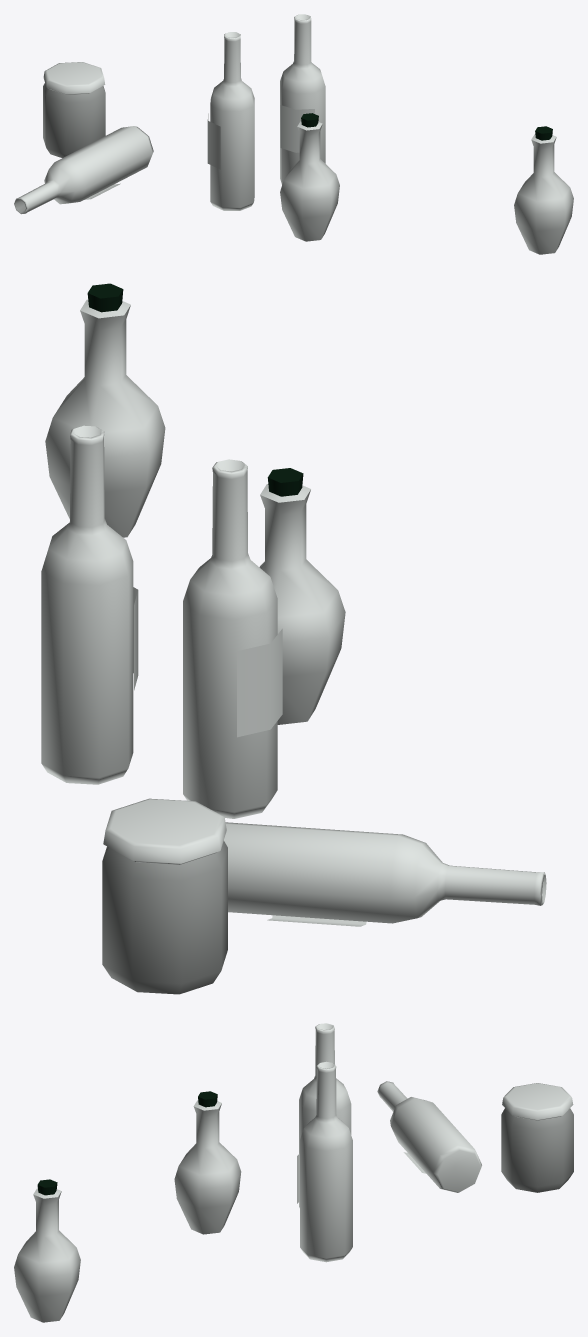
3 views of the same model, one above another, from view 1: azimuth 30°, elevation 25°; view 2: azimuth 150°, elevation 25°; view 3: azimuth 270°, elevation 25° (orthographic). The views are drawn at different scales.
Parts seen in each view (by area): view 1: G:\FFXIV-MapTools\exports\f1f3\bg\ffxiv\fst_f1\fld\f1f3\bgpa (×5); view 2: G:\FFXIV-MapTools\exports\f1f3\bg\ffxiv\fst_f1\fld\f1f3\bgpa (×5); view 3: G:\FFXIV-MapTools\exports\f1f3\bg\ffxiv\fst_f1\fld\f1f3\bgpa (×4).
Part boxes in pixels (<box>): G:\FFXIV-MapTools\exports\f1f3\bg\ffxiv\fst_f1\fld\f1f3\bgpa (×5): <box>14,14,573,254</box>; G:\FFXIV-MapTools\exports\f1f3\bg\ffxiv\fst_f1\fld\f1f3\bgpa (×5): <box>41,283,546,994</box>; G:\FFXIV-MapTools\exports\f1f3\bg\ffxiv\fst_f1\fld\f1f3\bgpa (×4): <box>14,1023,573,1322</box>.
Bounding box in the file's own units: 1.17 × 0.4751 × 1.27.
